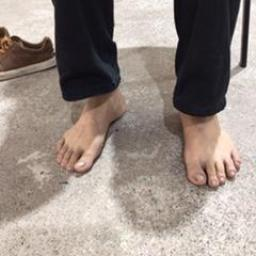Front View -Both Feet-: (48, 60, 245, 202)
